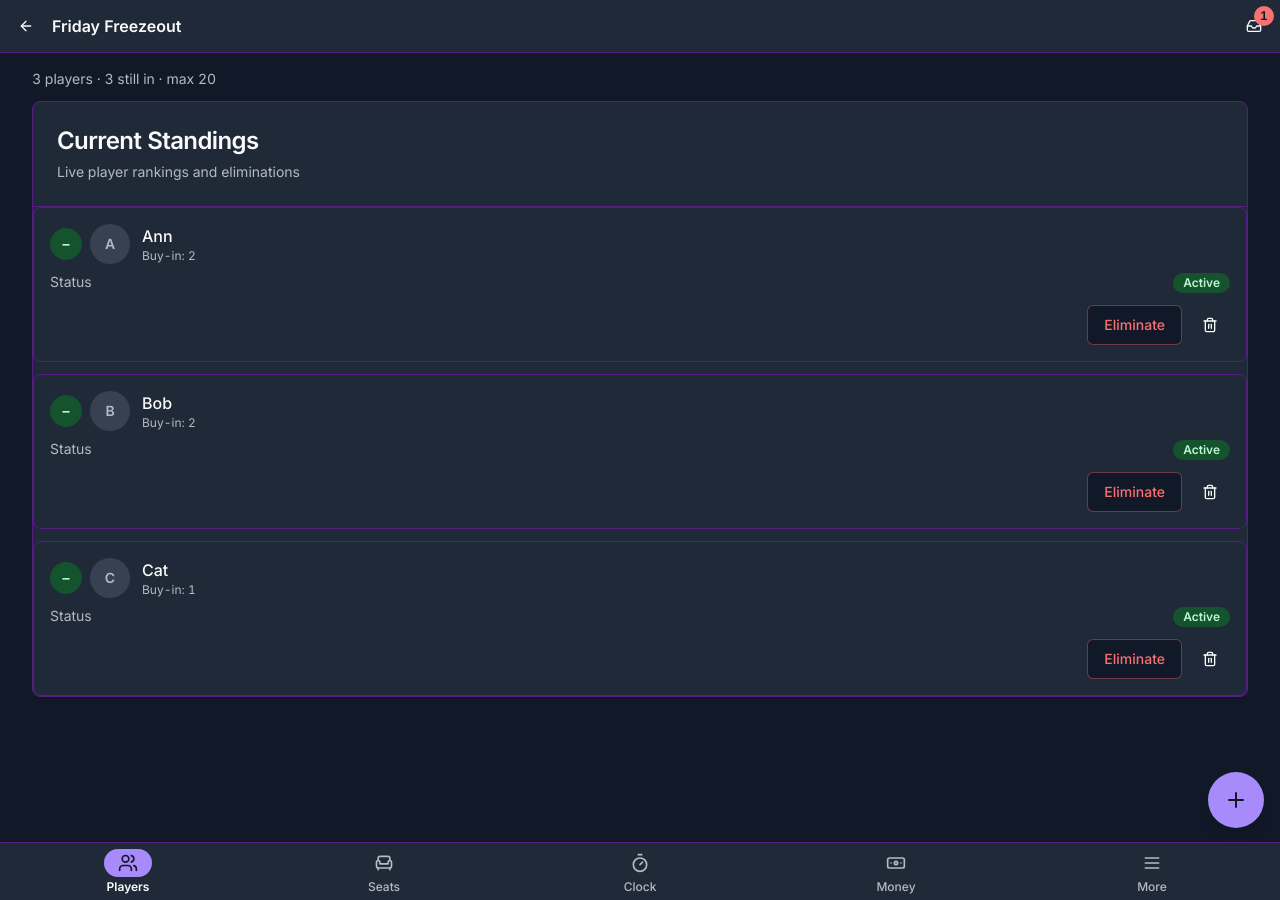
Test: TournamentDetailsPage on a phone: the header › opens the request desk from the header's badge, and confirms a request there
Click the button named "1 player request waiting" at (1254, 26), box [1232,4,1276,48]
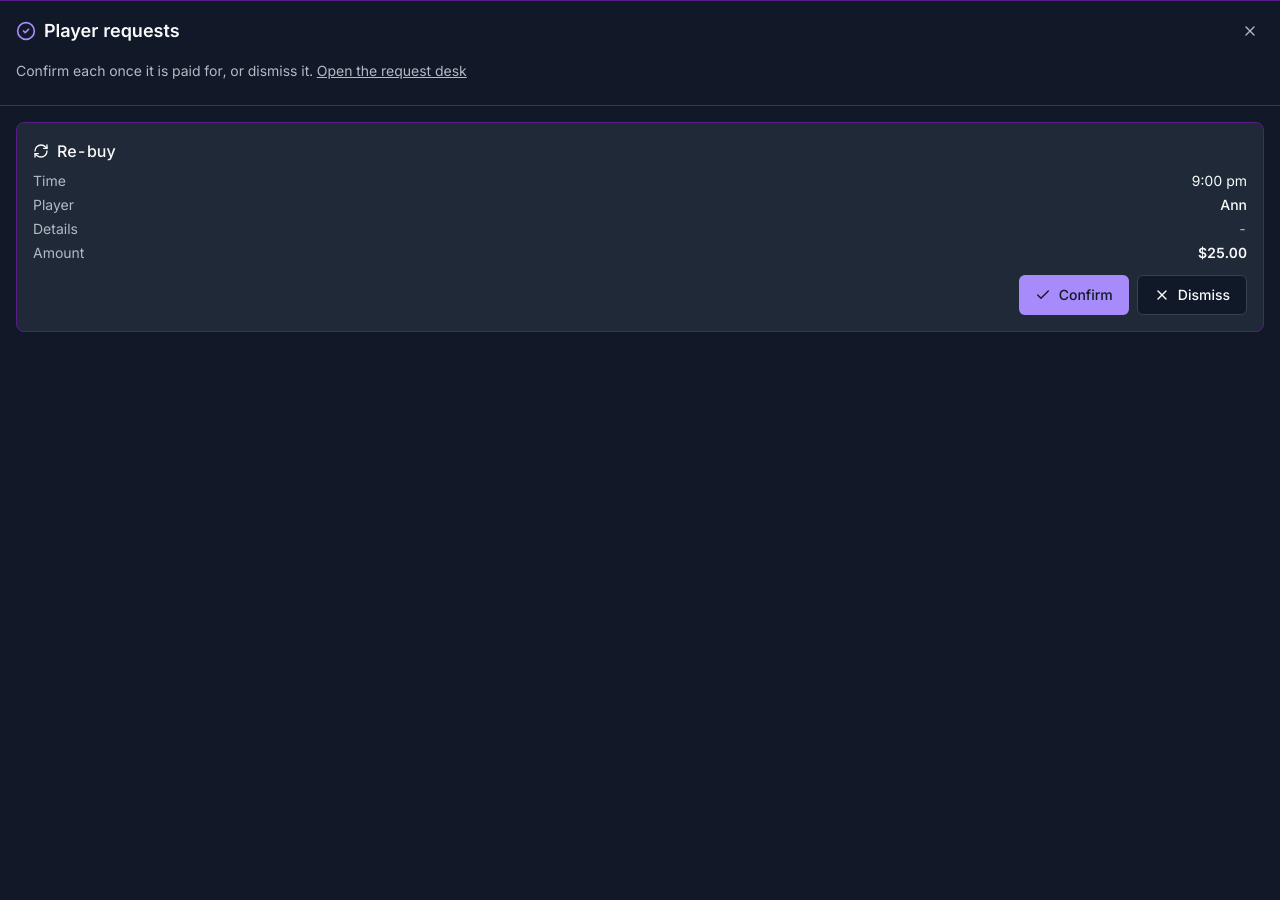
Click the button "Confirm" at (1074, 295), box [1019,275,1129,315]
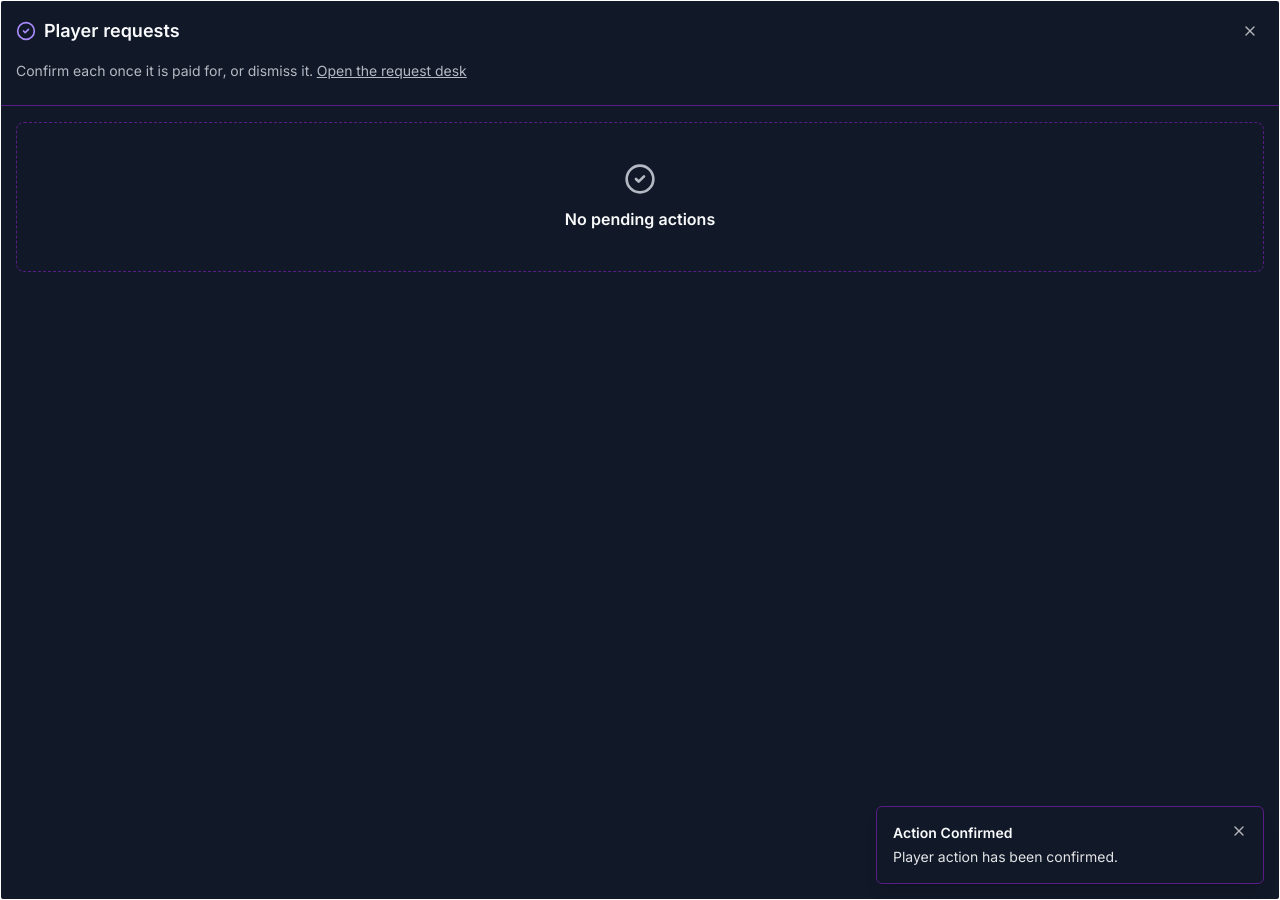
Result: the text "Player action has been confirmed." is shown at [893,848,1118,865]
Result: the heading "No pending actions" is shown at [565,207,715,231]
